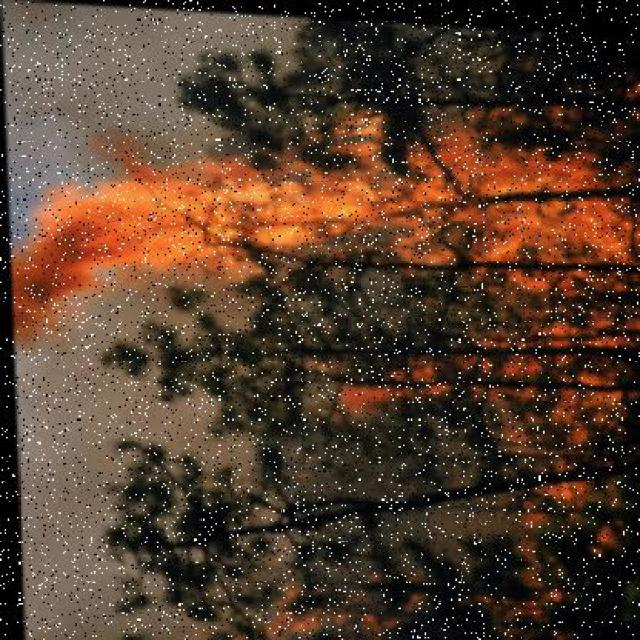fire: (4, 86, 640, 381)
